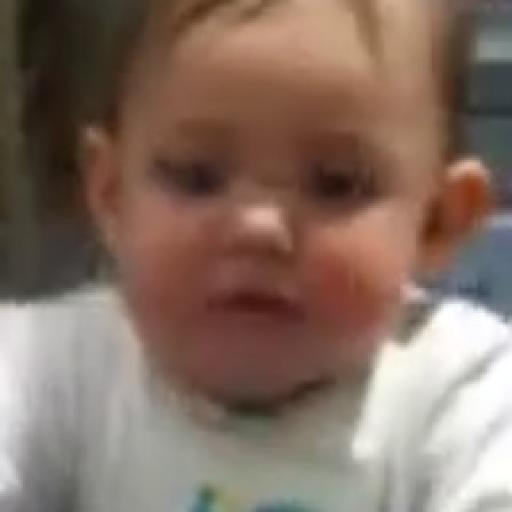Autism: (78, 18, 456, 430)
